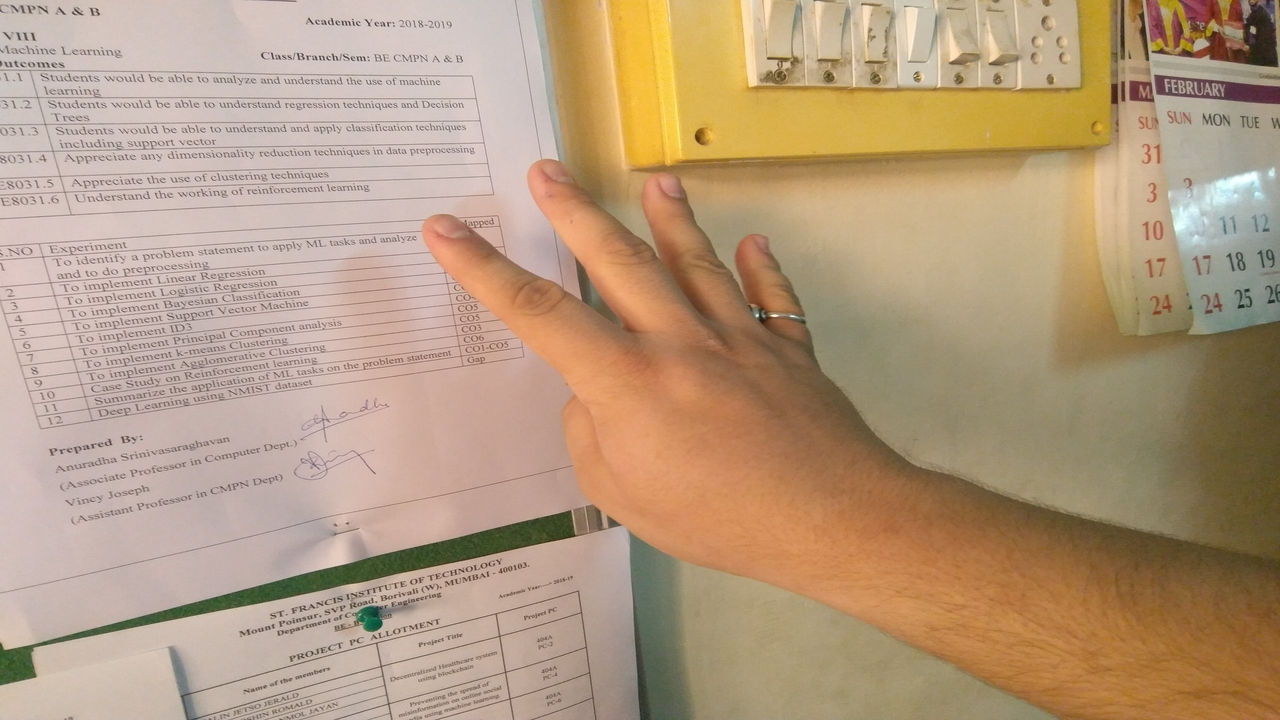fingertip: (634, 166, 696, 220), (414, 208, 476, 254), (516, 156, 568, 198), (735, 223, 781, 270)
